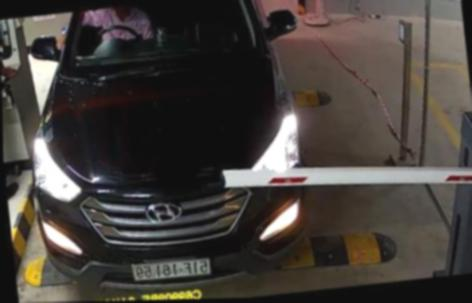License_Plate: (132, 251, 214, 285)
